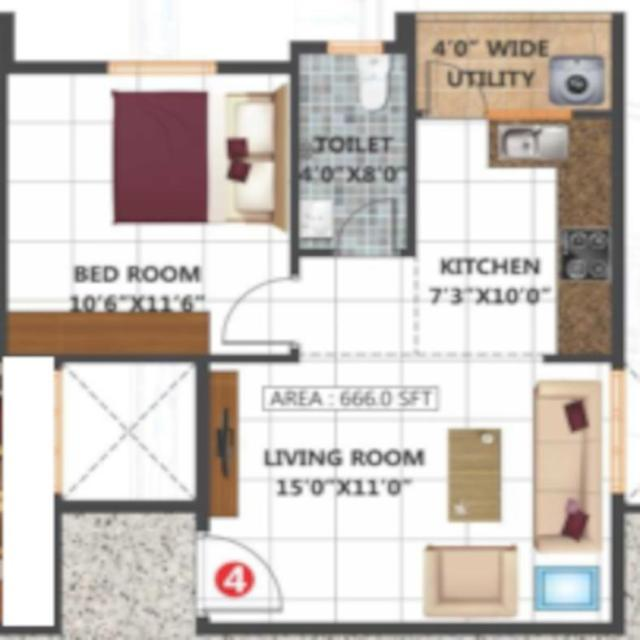Bedroom: (1, 62, 303, 359)
Kitchen: (410, 115, 619, 361)
Living: (195, 354, 624, 632)
Toilet: (291, 41, 416, 258)
Utility: (409, 9, 624, 111)
